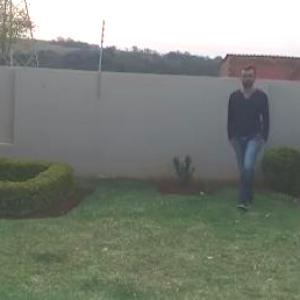follow: (214, 67, 270, 193)
